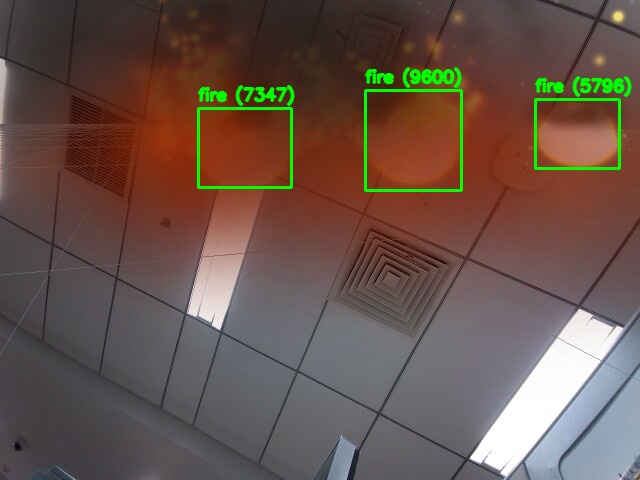fire: (365, 90, 461, 190), (198, 108, 291, 187), (535, 99, 619, 168)
